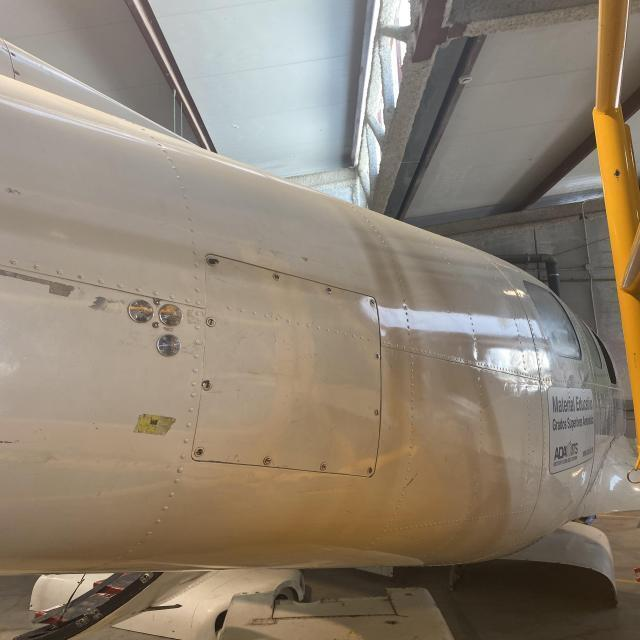Missing_Fastener: (10, 51, 17, 58)
